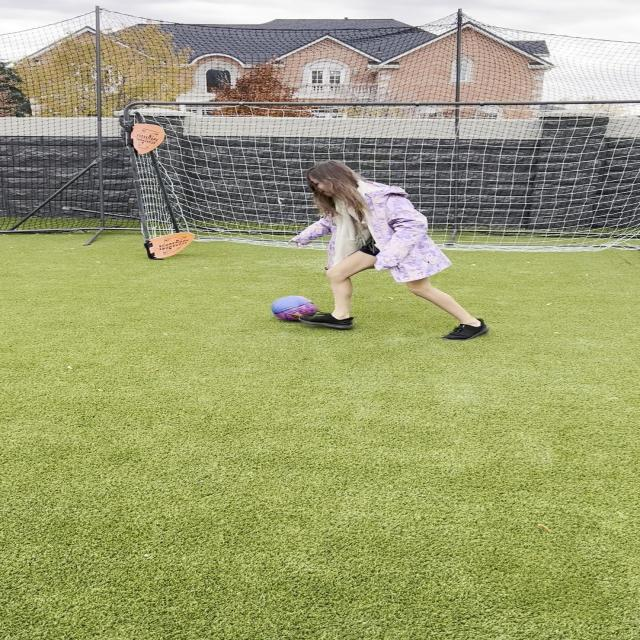Soccer Ball: (272, 295, 318, 321)
